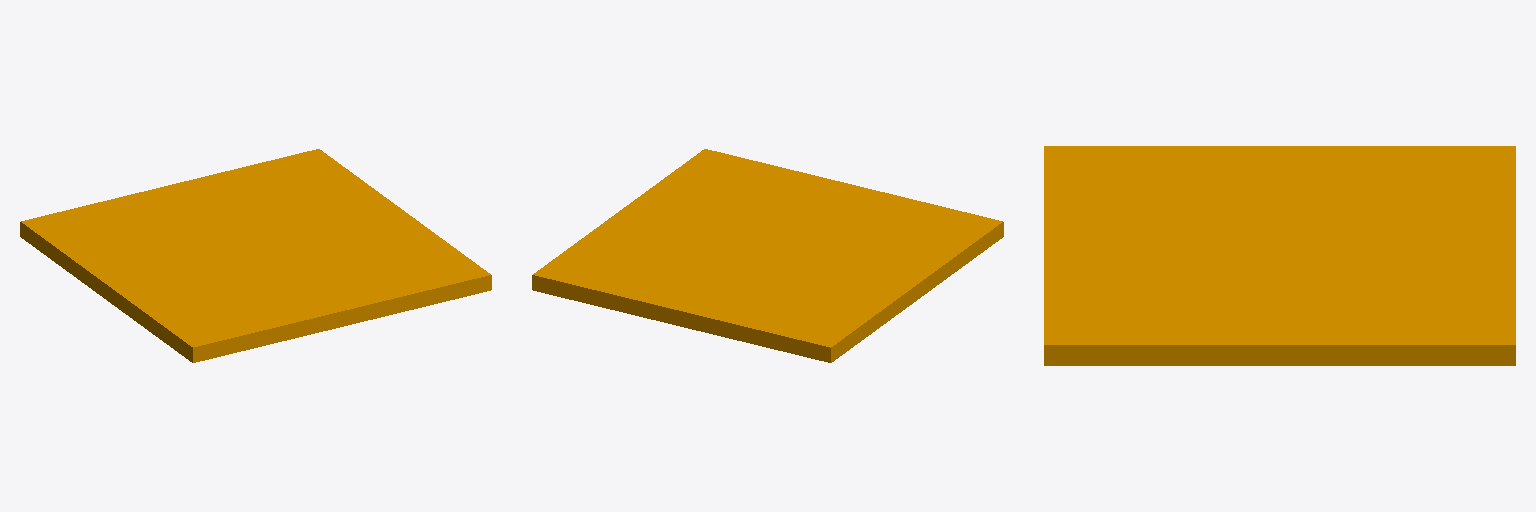
robot.urdf — WCS_k:
<?xml version="1.0"?>
<robot xmlns:sensor="http://playerstage.sourceforge.net/gazebo/xmlschema/#sensor"
       xmlns:controller="http://playerstage.sourceforge.net/gazebo/xmlschema/#controller"
       xmlns:interface="http://playerstage.sourceforge.net/gazebo/xmlschema/#interface"
       xmlns:xacro="http://ros.org/wiki/xacro"
       name="WCS_k">
       
<link name="WCS_k">
     <inertial>
      <origin xyz="-0.15 3.5 .7495" rpy="0 0 0" /> 
      <mass value="2.0" />
      <inertia  ixx="1.0" ixy="0.0"  ixz="0.0"  iyy="100.0"  iyz="0.0"  izz="1.0" />
    </inertial>
    <visual>
      <origin xyz="-0.15 3.5 .7495" rpy="0 0 0" /> 
      <geometry>
        <box size="0.02 0.02 0.001" />
      </geometry>
    </visual>
    <collision name="WCS_k">
     <origin xyz="-0.15 3.5 .7495" rpy="0 0 0" /> 
      <geometry>
       <box size="0.02 0.02 0.001" />
      </geometry>
    </collision>
  </link>
  <gazebo reference="WCS_k">
    <material>Gazebo/Black</material>    
  </gazebo>
       
<gazebo reference="WCS_k">
      <selfCollide>true</selfCollide>
      <sensor:contact name="WCS_k">
        <geom>WCS_k_geom</geom>
        <updateRate>100.0</updateRate>
        <controller:gazebo_ros_bumper name="gazebo_ros_bumper_controller" plugin="libgazebo_ros_bumper.so">
          <alwaysOn>true</alwaysOn>
          <updateRate>100.0</updateRate>
          <bumperTopicName>/angen_contact/WCS/kitchen</bumperTopicName>
          <interface:bumper name="contact_bumper_iface" />
        </controller:gazebo_ros_bumper>
      </sensor:contact>
    </gazebo>
</robot>

--- Render facts (derived) ---
Views: 3 orthographic renders of the robot side by side, from view 1: azimuth 30°, elevation 25°; view 2: azimuth 150°, elevation 25°; view 3: azimuth 270°, elevation 25°.
Robot: WCS_k — 1 links, 0 joints (none); root link WCS_k; default pose: all joints at 0.
Visible links, largest first — view 1: WCS_k; view 2: WCS_k; view 3: WCS_k.
Link boxes in pixels (x1,y1,x2,y2): WCS_k: [20, 149, 491, 362]; WCS_k: [532, 149, 1003, 362]; WCS_k: [1044, 146, 1515, 365].
Size in the robot's own frame: 0.02 by 0.02 by 0.001 metres.
Geometry: primitives only (box / cylinder / sphere), no mesh files.
